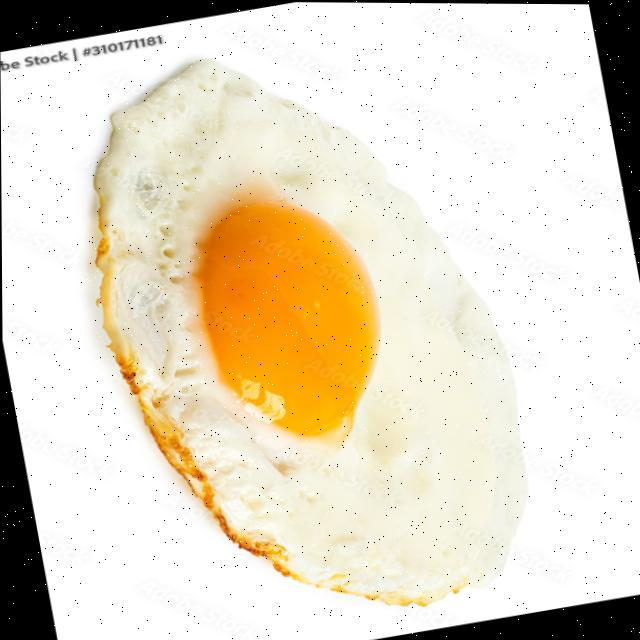Egg: (92, 59, 525, 604)
